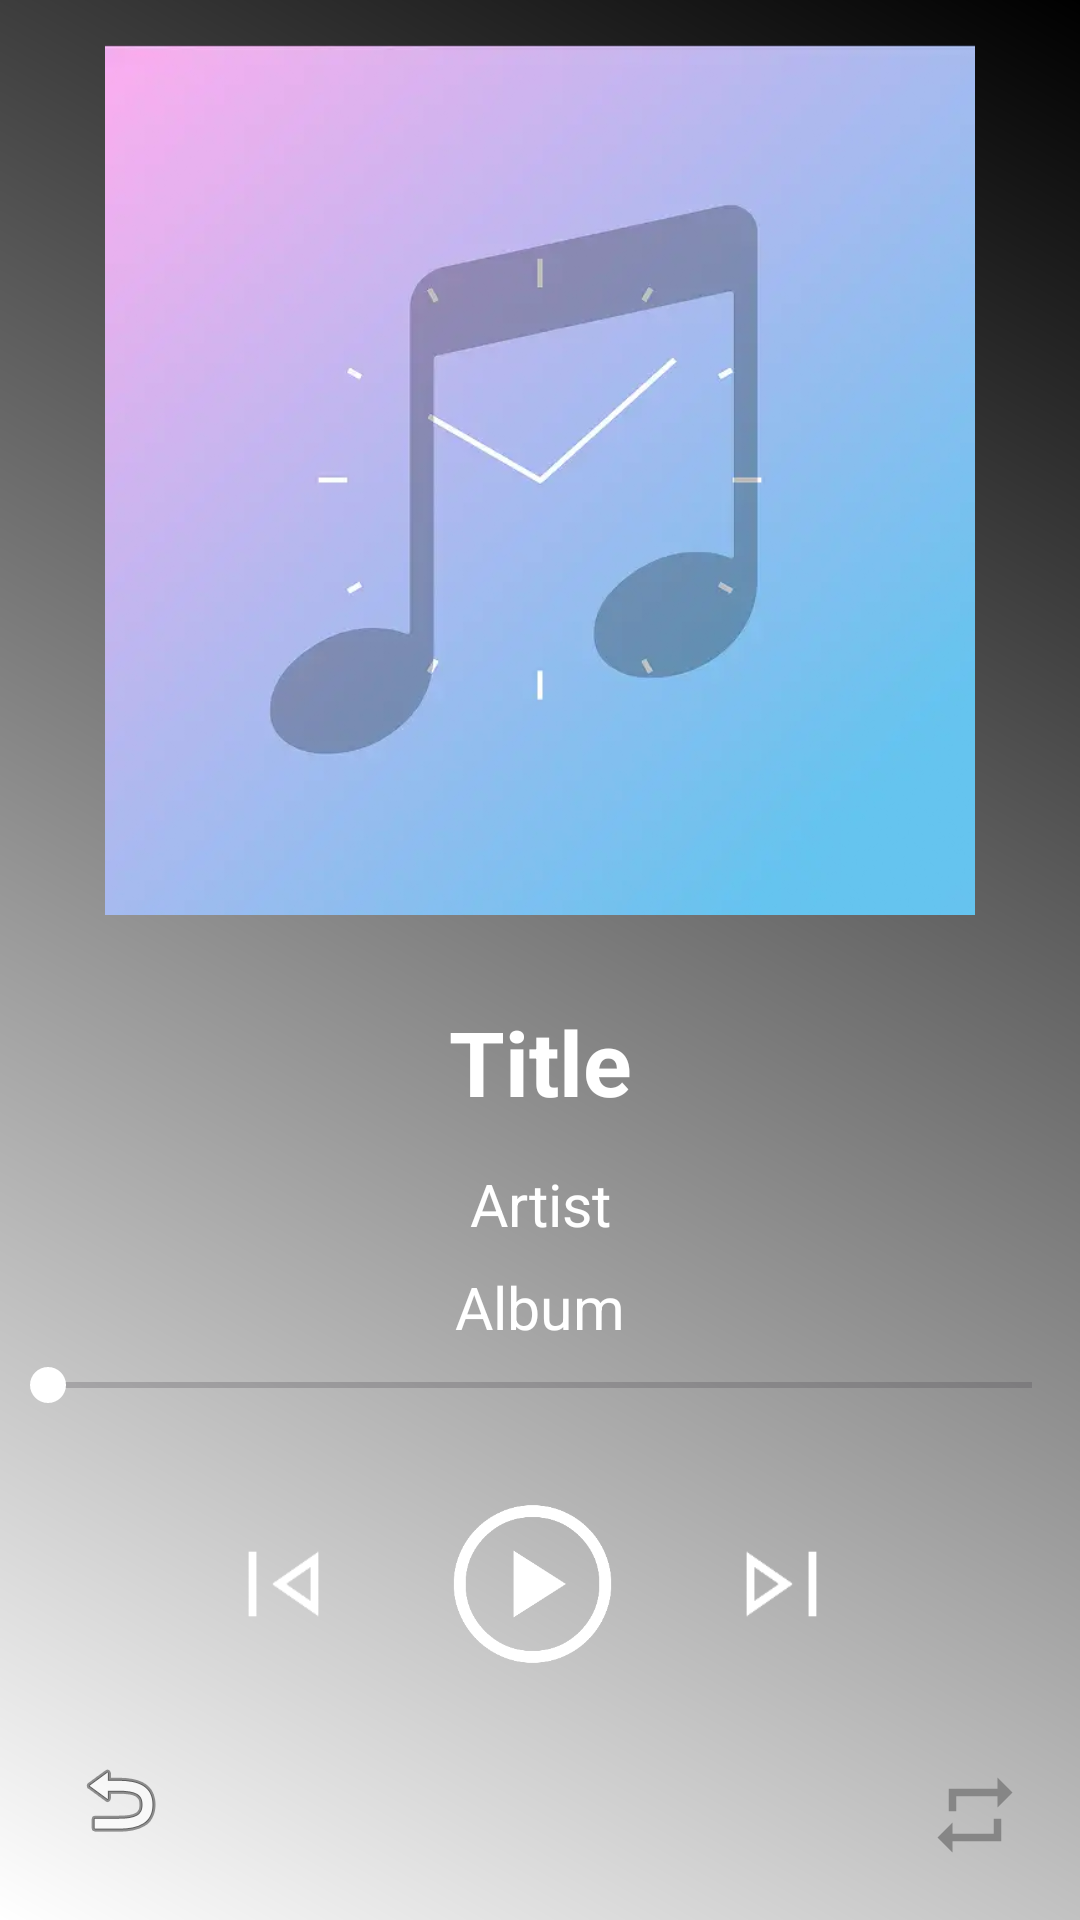

Screen size 1080×1920. Icon name, then its center in pixels as [x,y]:
back: [121,1800]
play: [532,1561]
repeat all: [975,1815]
